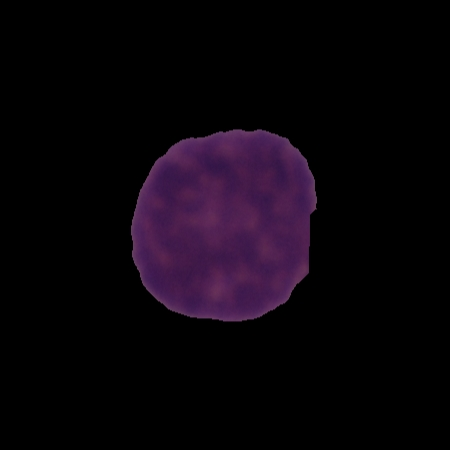HEM: (127, 124, 320, 325)
